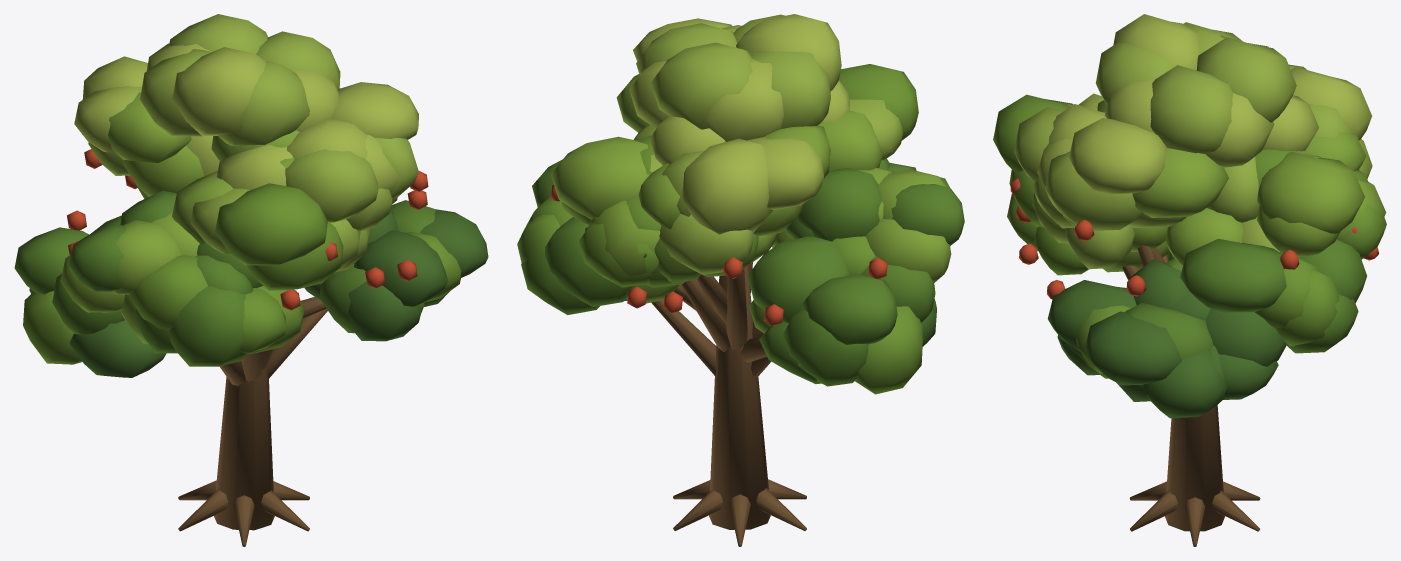
Rendered from foliage_apple_1.glb.
The picture shows the model from 3 angles, left to right: view 1: azimuth 30°, elevation 25°; view 2: azimuth 150°, elevation 25°; view 3: azimuth 270°, elevation 25°; orthographic projection. The views are drawn at different scales.
Visible parts, largest first — view 1: Trunk; view 2: Trunk; view 3: Trunk.
Part boxes in pixels (x1,y1,x2,y2): Trunk: [14, 14, 488, 546]; Trunk: [517, 14, 964, 546]; Trunk: [993, 14, 1386, 546].
Size of the model in its own units: 4.55 by 5.14 by 3.83.
